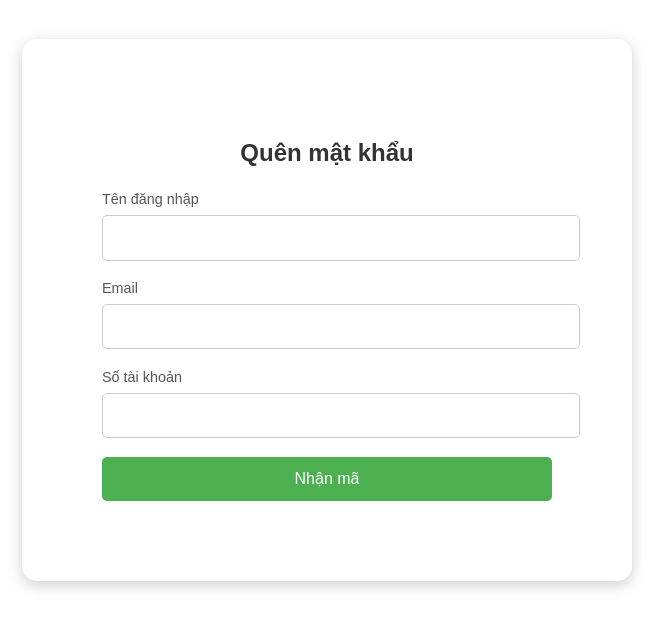
Test case: ForgotPasswordPage › should show error if account number is invalid
This screenshot has width=655, height=629.
In the field with id "username": (341, 238) [102, 215, 580, 261], type "testuser"
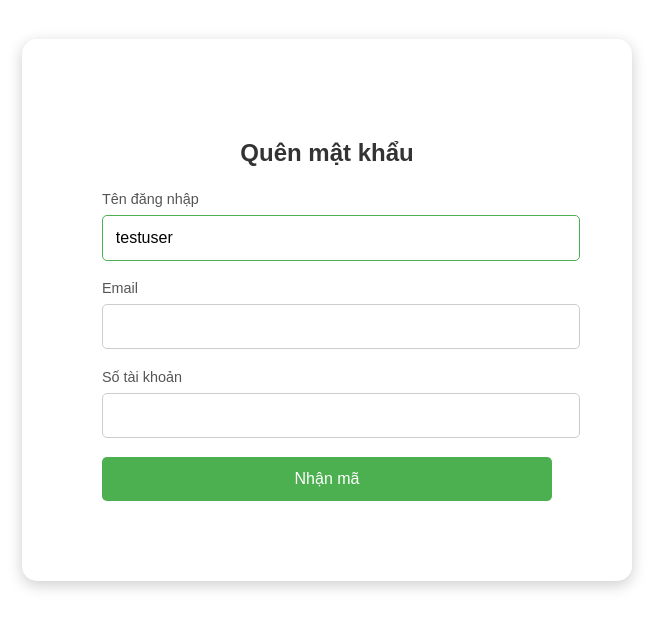
In the field with id "email": (341, 327) [102, 304, 580, 350], type "testuser@example.com"
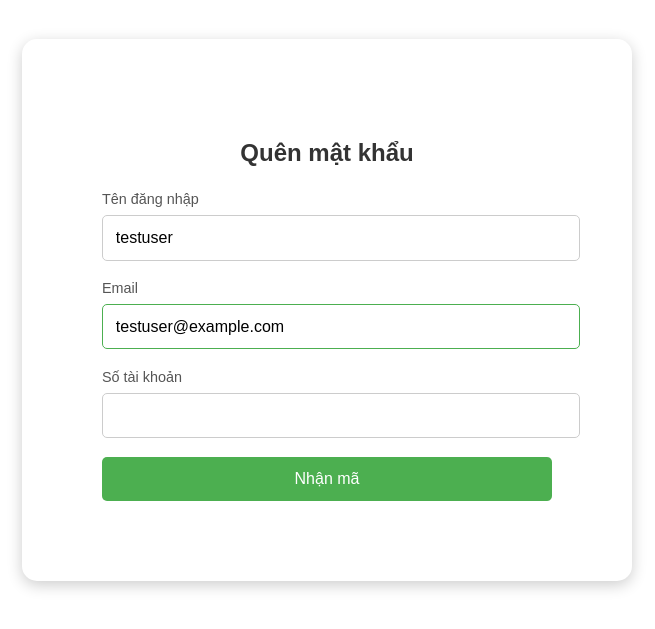
In the field with id "account-number": (341, 416) [102, 393, 580, 439], type "invalidaccount!"
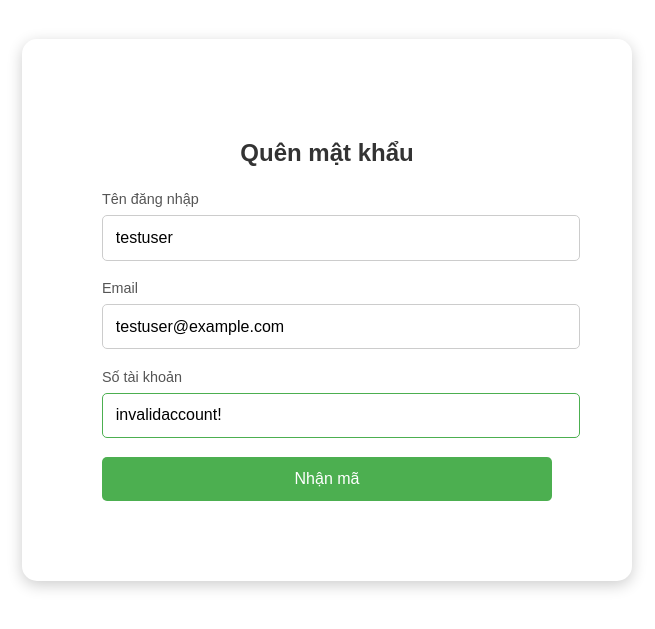
Click the button "Nhận mã": (327, 479) [102, 457, 552, 501]
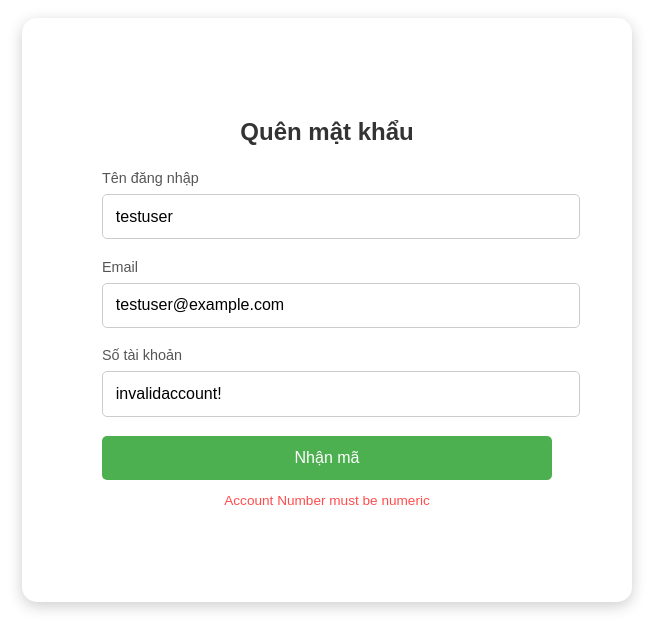
Check: the text with class "error-message" reads "Account Number must be numeric", box [224, 493, 430, 508]
